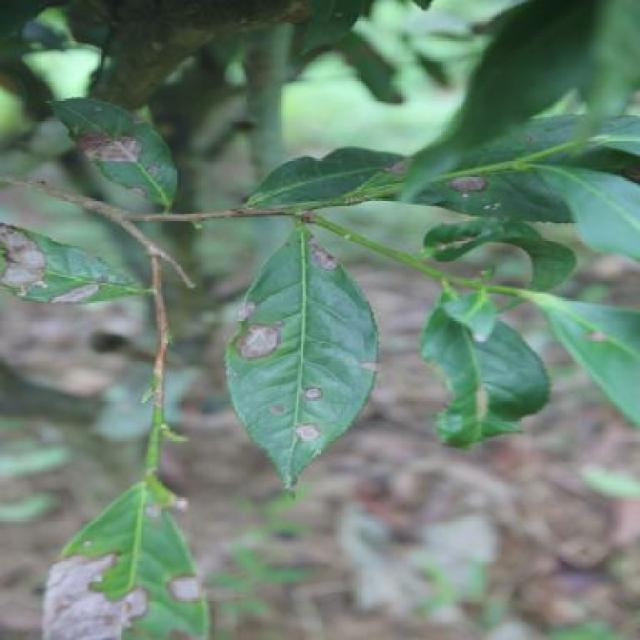Leaf rust of tea: (217, 211, 391, 517), (40, 475, 202, 640), (0, 224, 180, 324), (59, 86, 188, 214)
